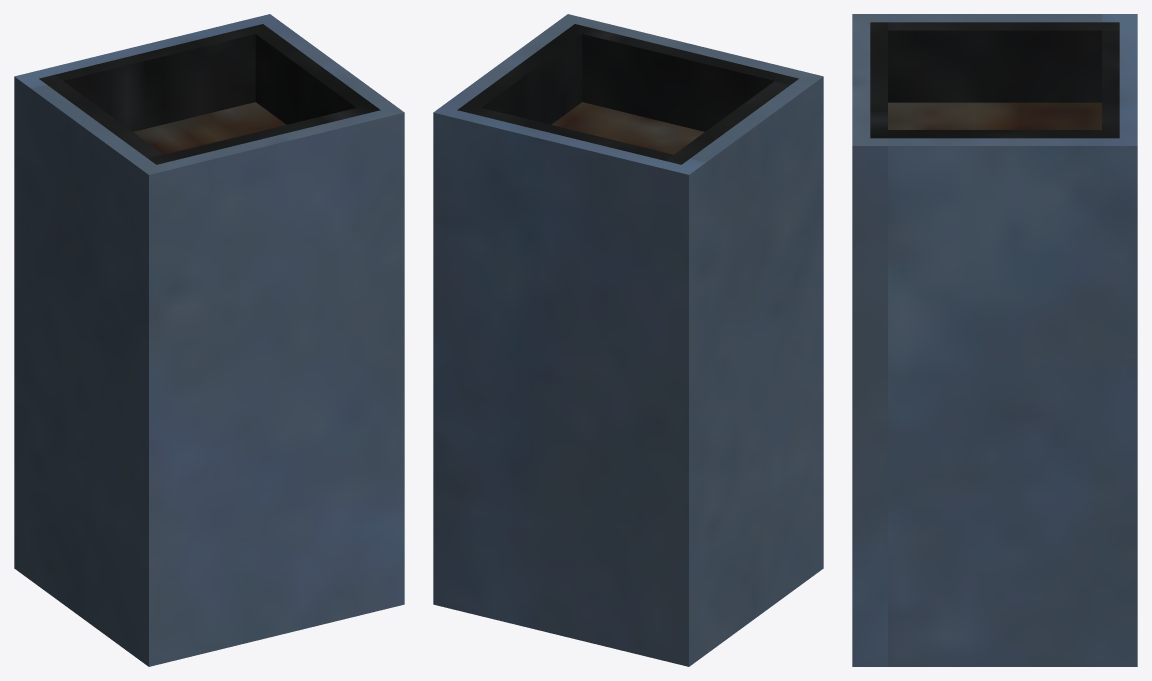
The model's file is SM_EC_KitchenBin_0.fbx.
The picture shows the model from 3 angles, left to right: view 1: azimuth 30°, elevation 25°; view 2: azimuth 150°, elevation 25°; view 3: azimuth 270°, elevation 25°; orthographic projection. The views are drawn at different scales.
Parts seen in each view (by area): view 1: SM_EC_KitchenBin_0; view 2: SM_EC_KitchenBin_0; view 3: SM_EC_KitchenBin_0.
Boxes of the visible parts, <box> form: SM_EC_KitchenBin_0: <box>14,14,404,666</box>; SM_EC_KitchenBin_0: <box>433,14,823,666</box>; SM_EC_KitchenBin_0: <box>852,14,1137,666</box>.
Size of the model in its own units: 0.4407 by 0.4018 by 0.81.
